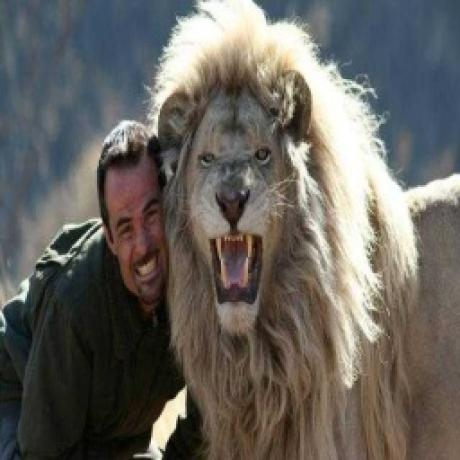Lion: (159, 0, 460, 460)
